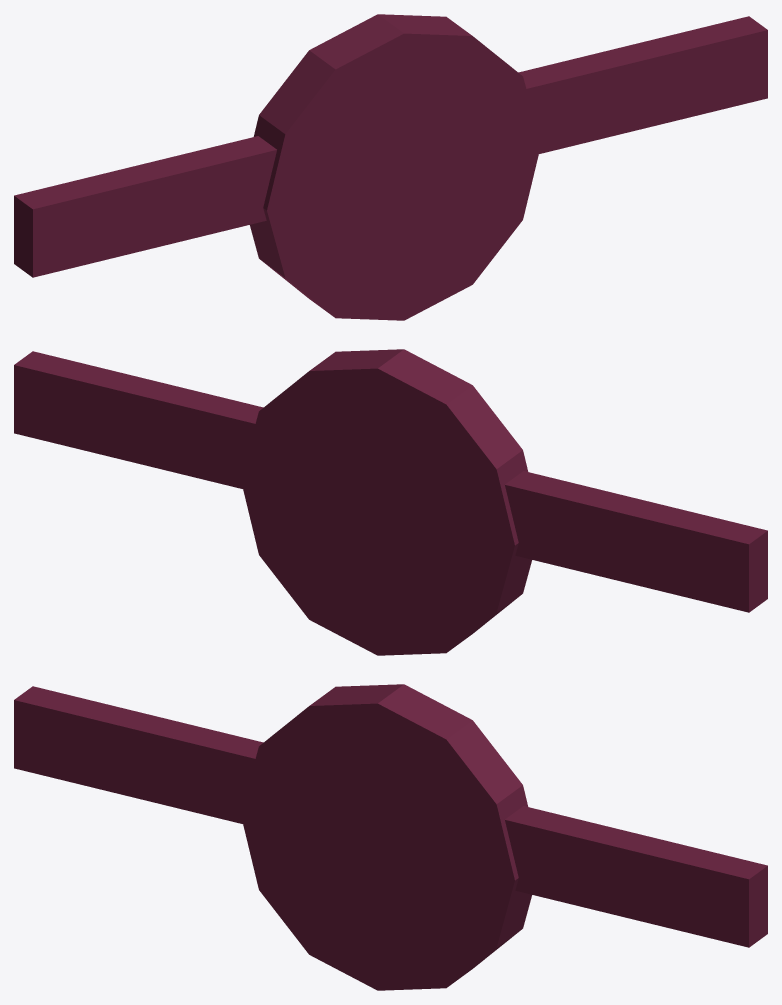
File: emblem.glb
The picture shows the model from 3 angles, top to bottom: view 1: azimuth 30°, elevation 25°; view 2: azimuth 150°, elevation 25°; view 3: azimuth 330°, elevation 25°; orthographic projection.
Visible parts, largest first — view 1: Disc; view 2: Disc; view 3: Disc.
Boxes of the visible parts, box(x1,y1,x2,y2) form: Disc: box(14, 14, 767, 320); Disc: box(14, 349, 767, 655); Disc: box(14, 684, 767, 990).
Size of the model in its own units: 2.25 by 0.84 by 0.14.
